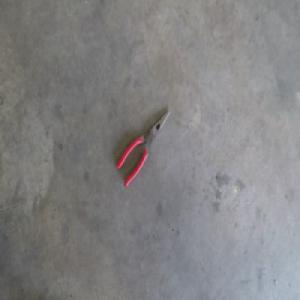Pliers: (116, 108, 170, 187)
